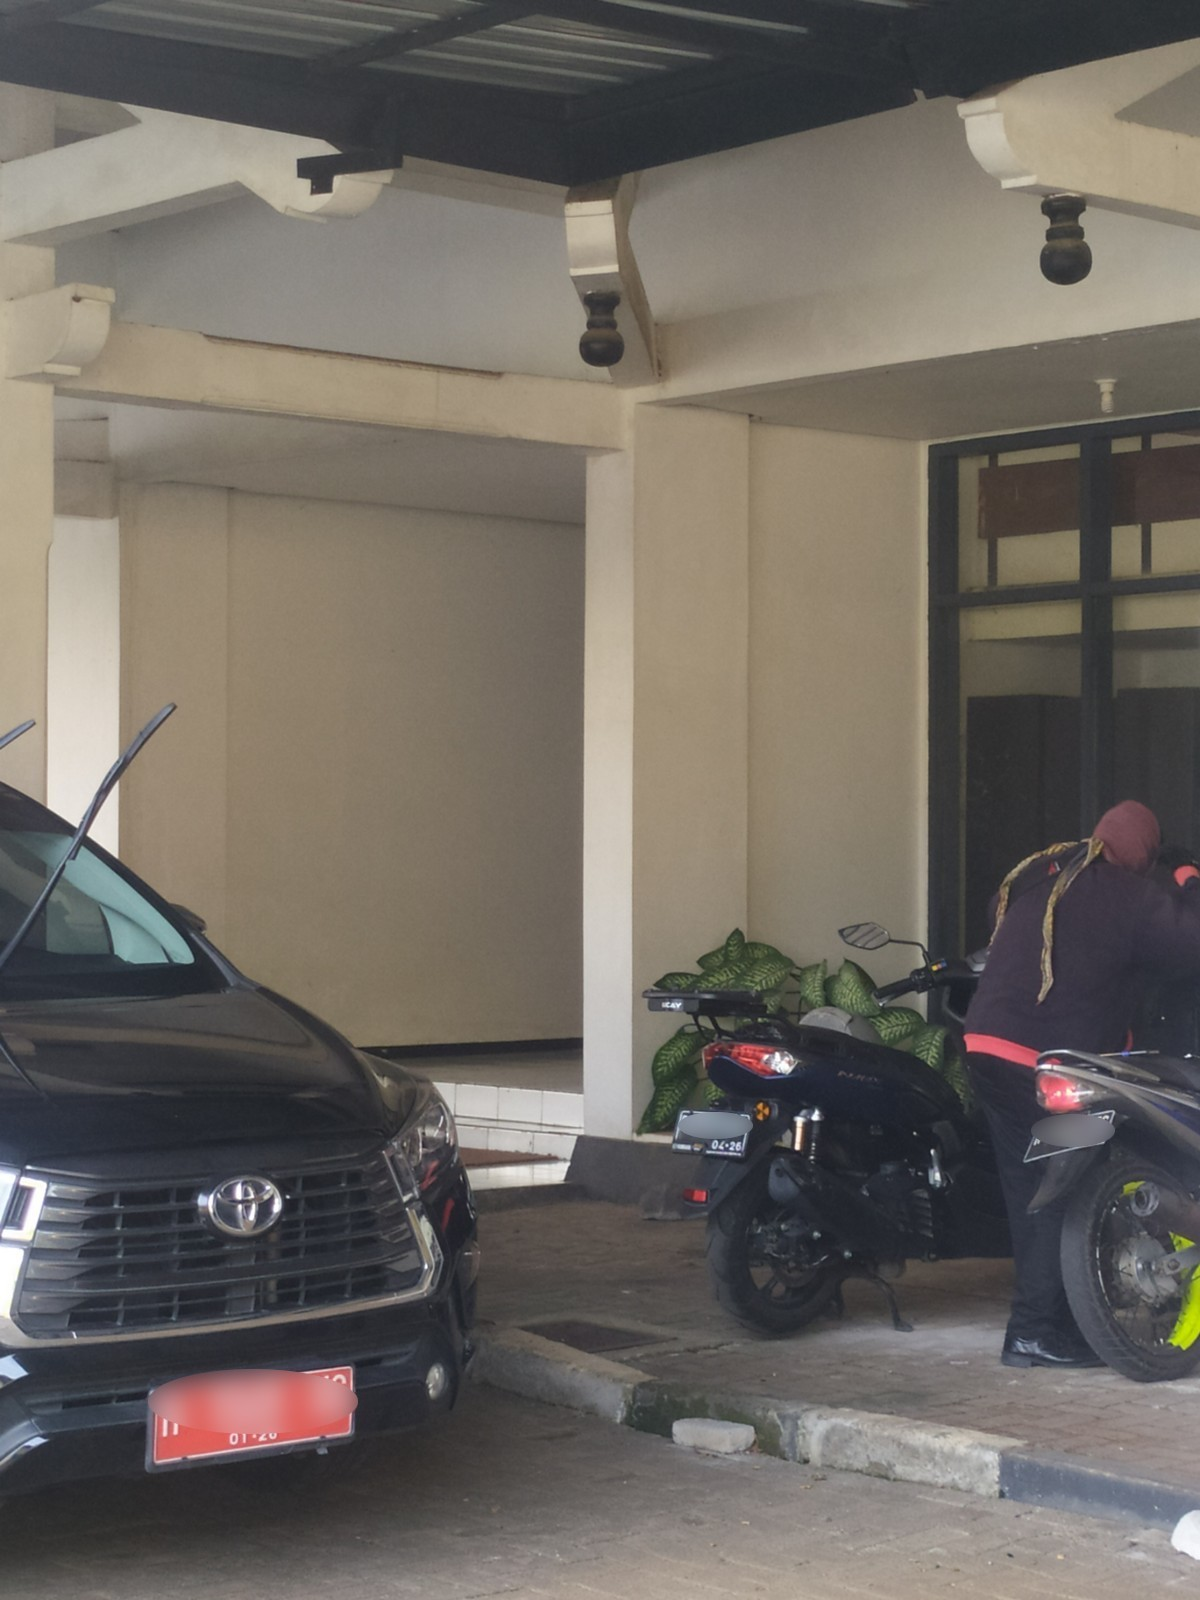concrete beam: (87, 319, 630, 465)
concrete column: (570, 388, 765, 1112)
